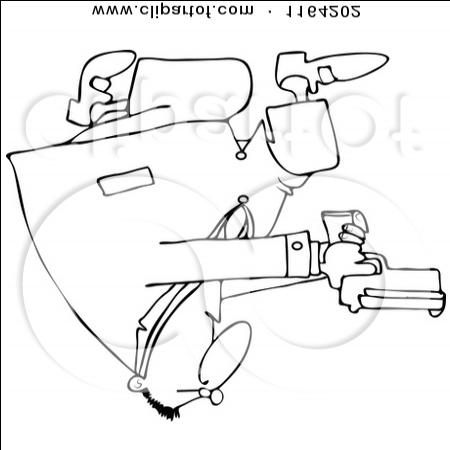Pistol: (311, 210, 443, 318)
